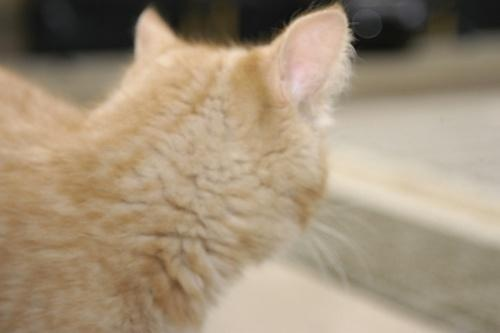cat: (1, 2, 360, 333)
